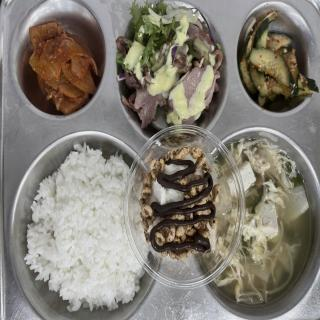Nasi: (21, 143, 126, 307)
